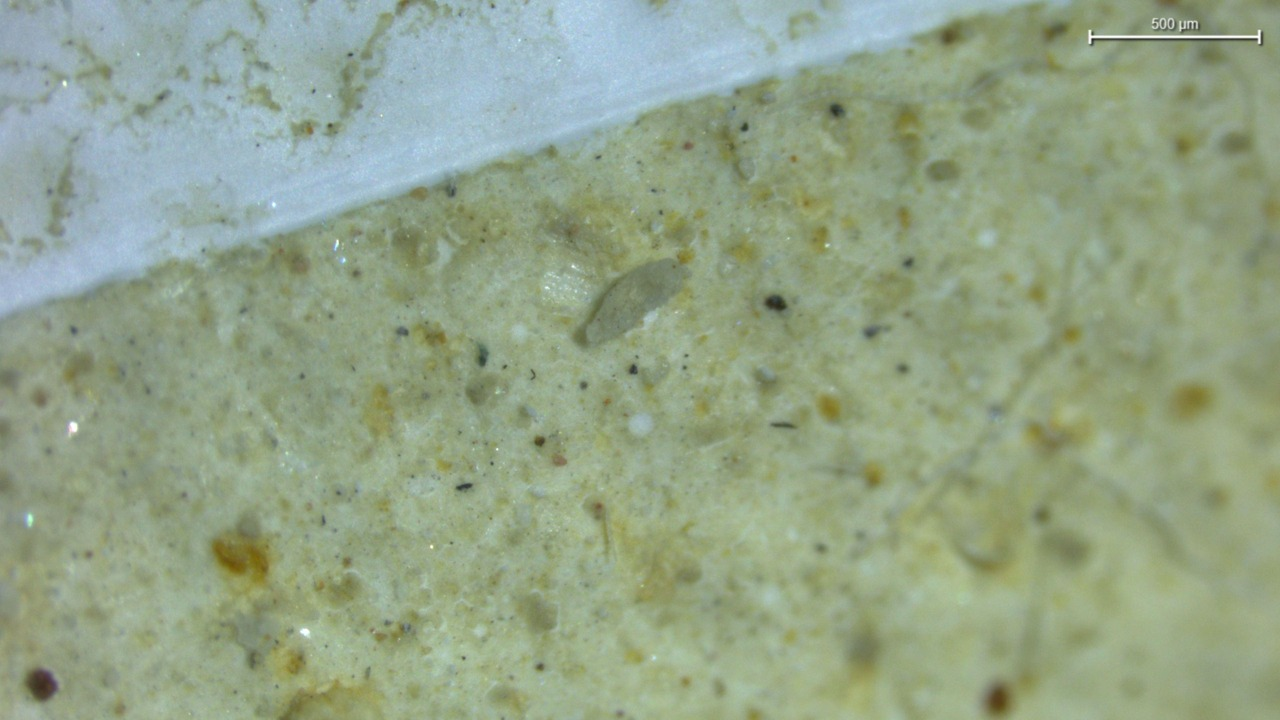microplastic_fragment: (585, 258, 688, 344)
